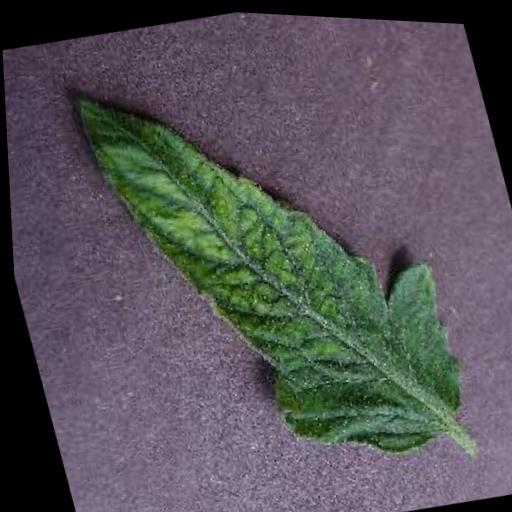Mosaic Virus: (61, 21, 477, 499)
